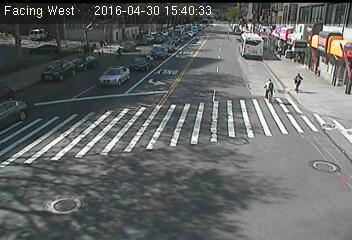neg: (258, 72, 282, 103), (114, 90, 133, 116), (223, 63, 238, 83), (198, 120, 212, 138)
pos: (286, 66, 306, 93)
